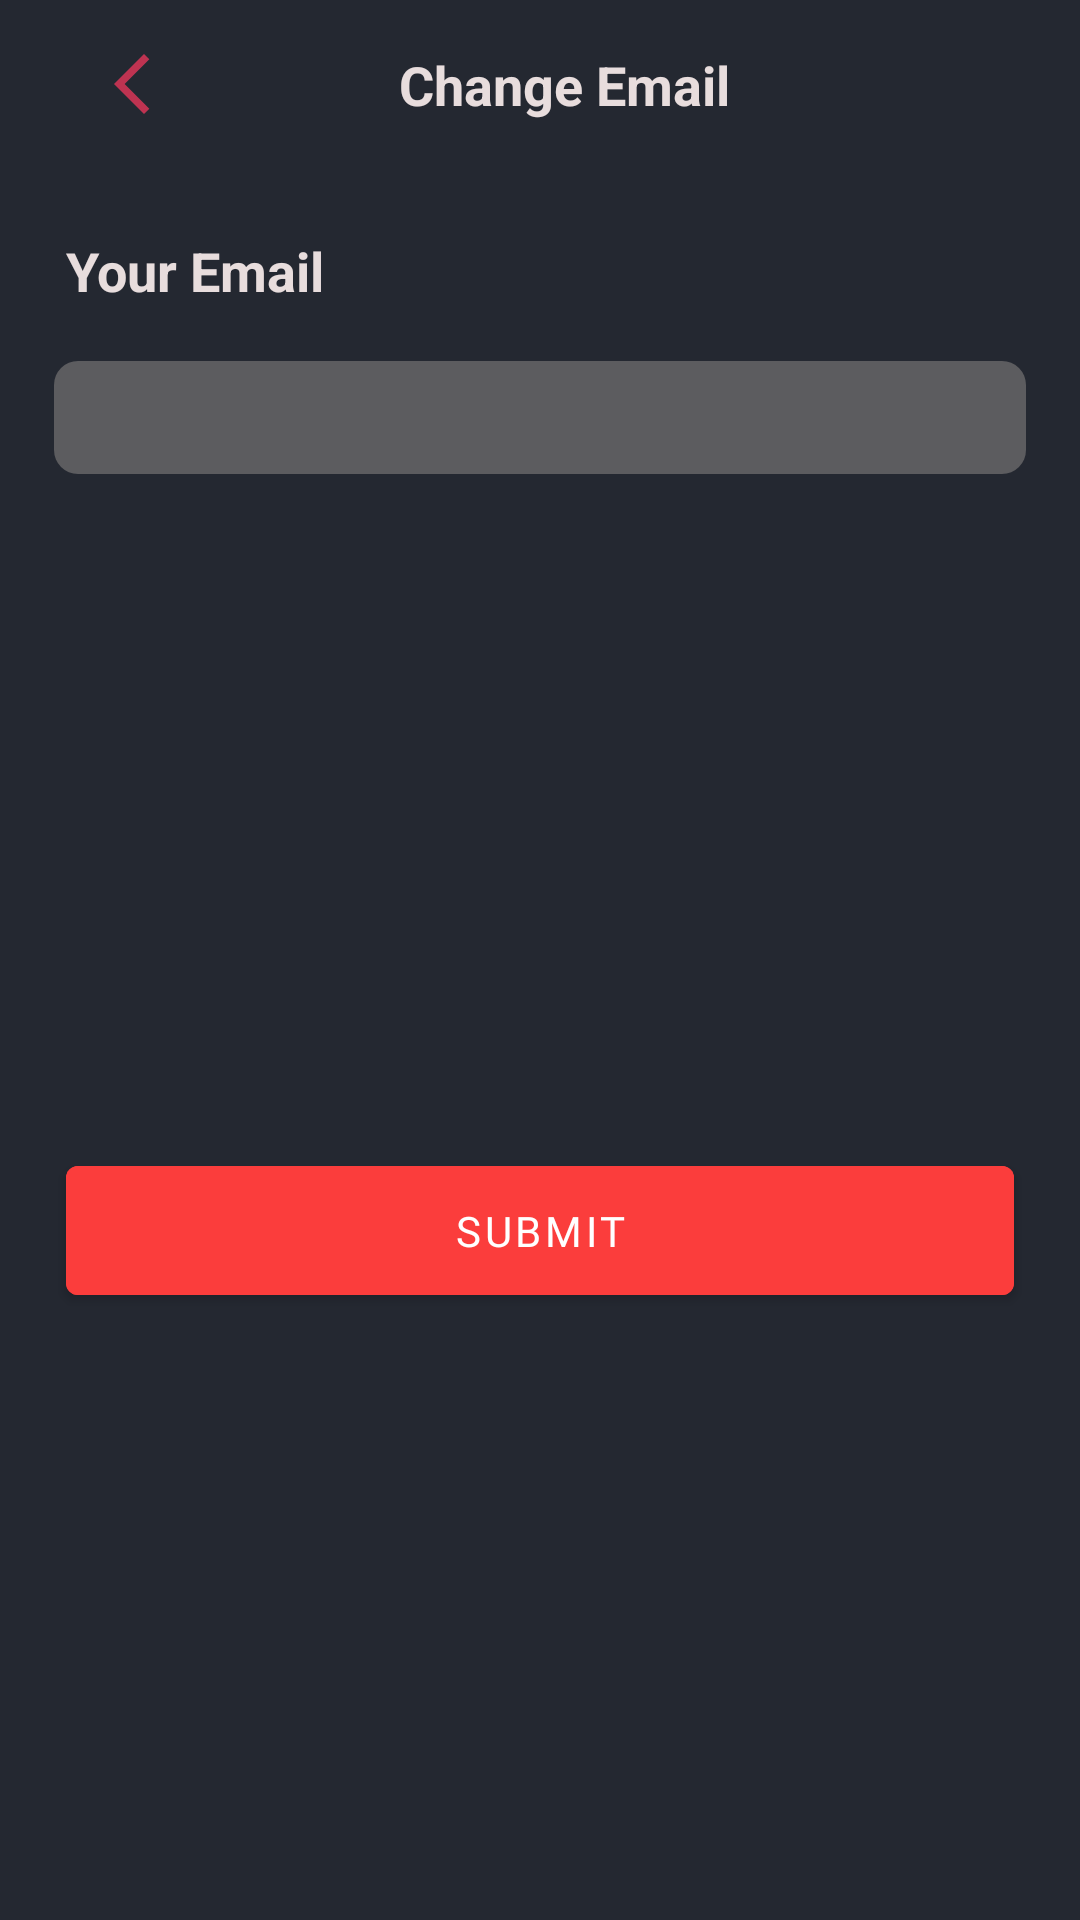

Screen size 1080*1920. Icon name, then its box in pixels as detection(x1, y1, x2, y2):
arrow back: detection(114, 54, 149, 114)
